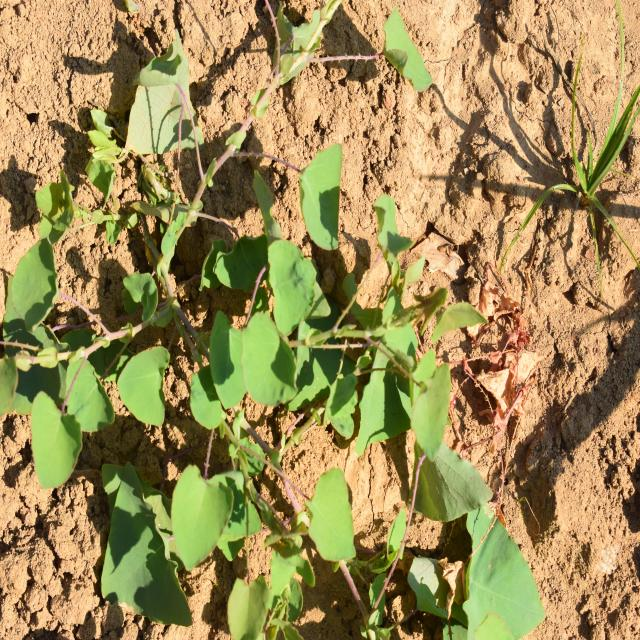Asiatic_Smartweed: (352, 194, 493, 509), (213, 136, 353, 439), (2, 247, 184, 477), (170, 428, 355, 606)
